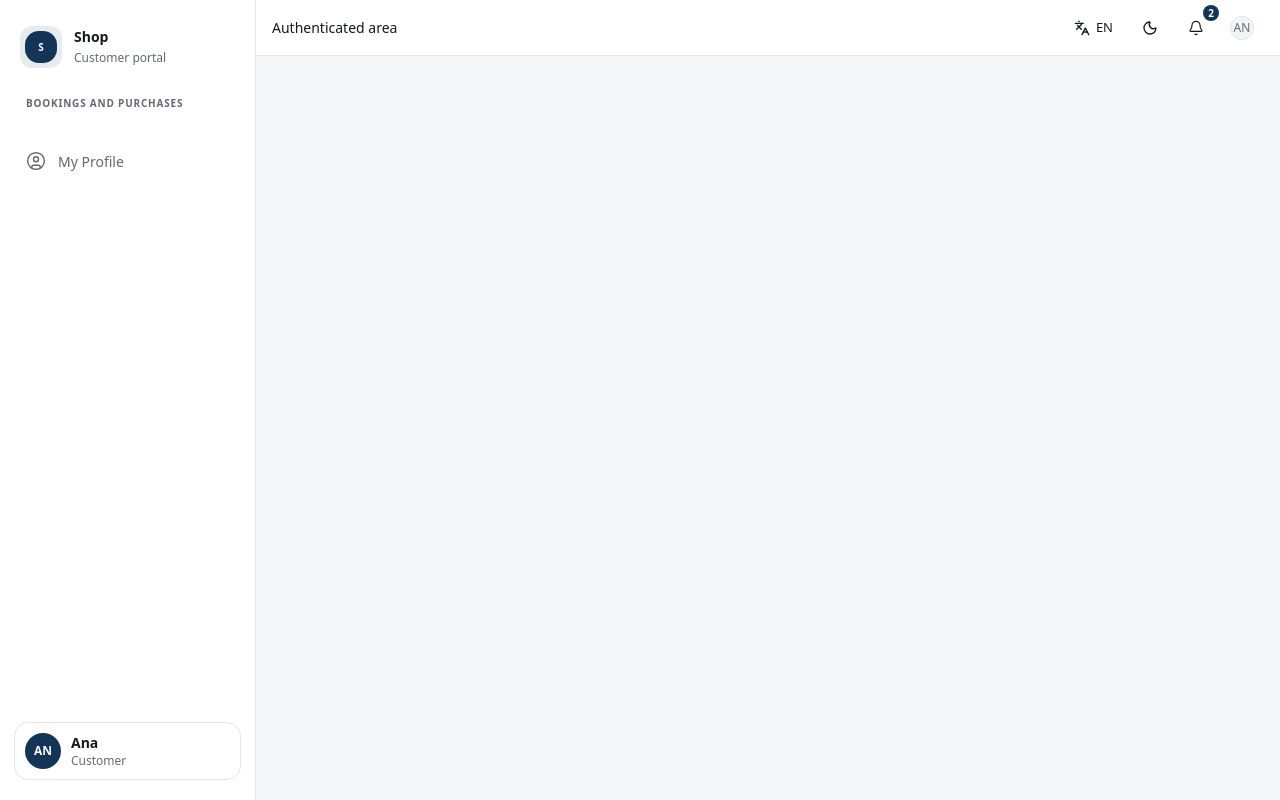
reuses localized notification labels in en
Click the button "2": (1196, 28) [1174,6,1218,50]
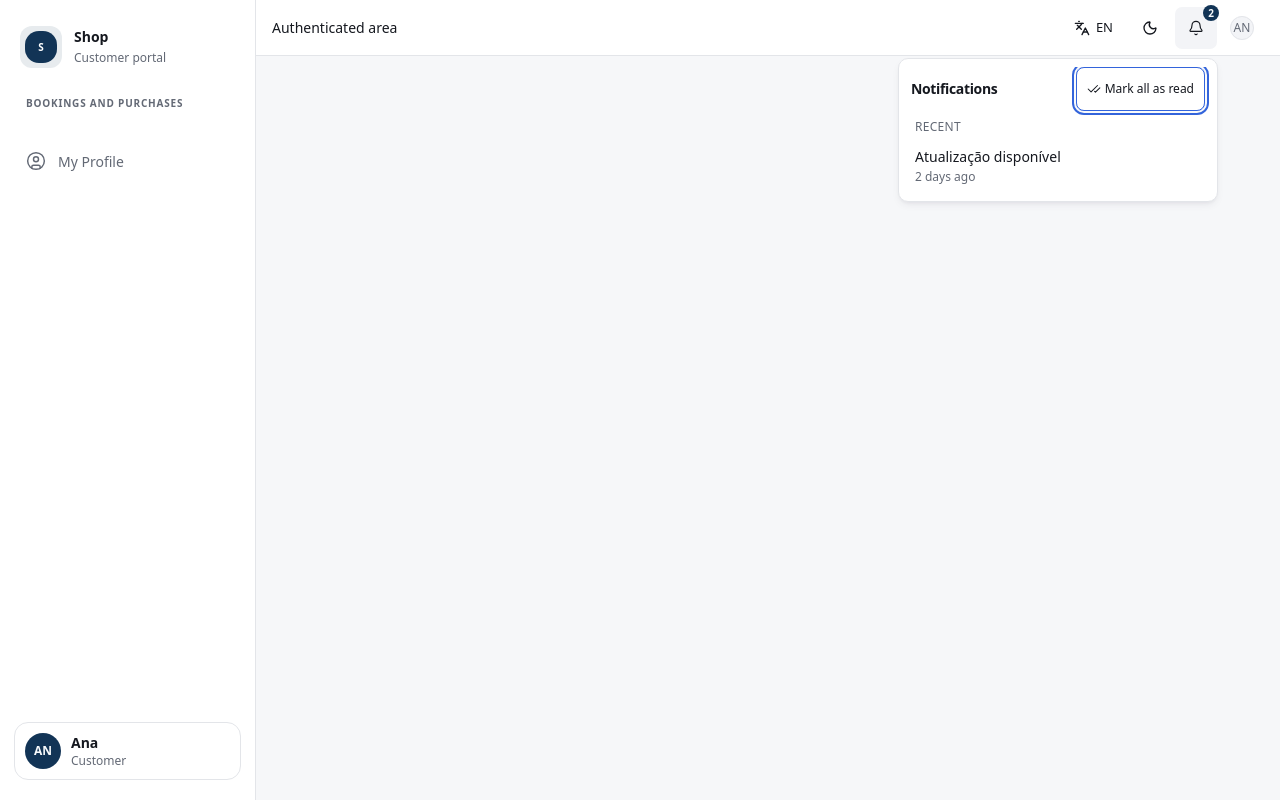
Expected: the button "Mark all as read" is shown, [1076,67,1205,111]
